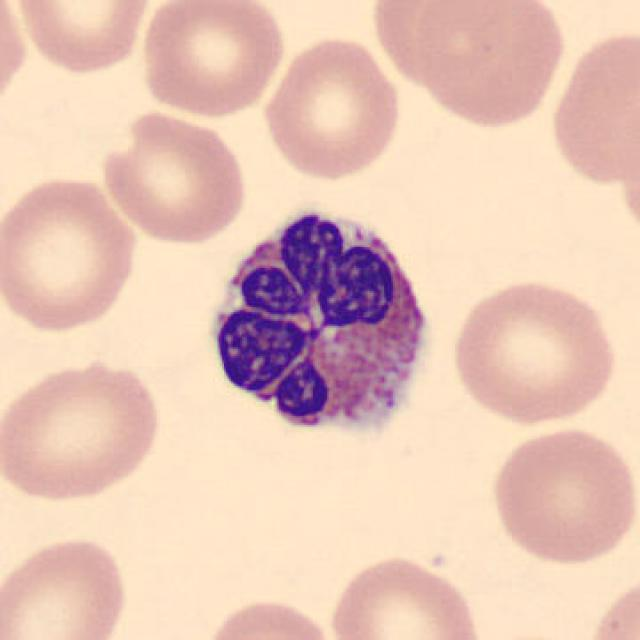Eosinophil: (194, 194, 442, 458)
RBC: (444, 275, 622, 428), (0, 356, 165, 506), (0, 169, 142, 337), (258, 32, 405, 183), (405, 0, 571, 132), (486, 423, 636, 568), (97, 107, 250, 247), (137, 0, 288, 122), (546, 25, 640, 192), (0, 530, 133, 640), (323, 552, 489, 640), (366, 2, 526, 88), (7, 0, 157, 78), (198, 594, 340, 640), (582, 569, 638, 640), (0, 0, 32, 120)
